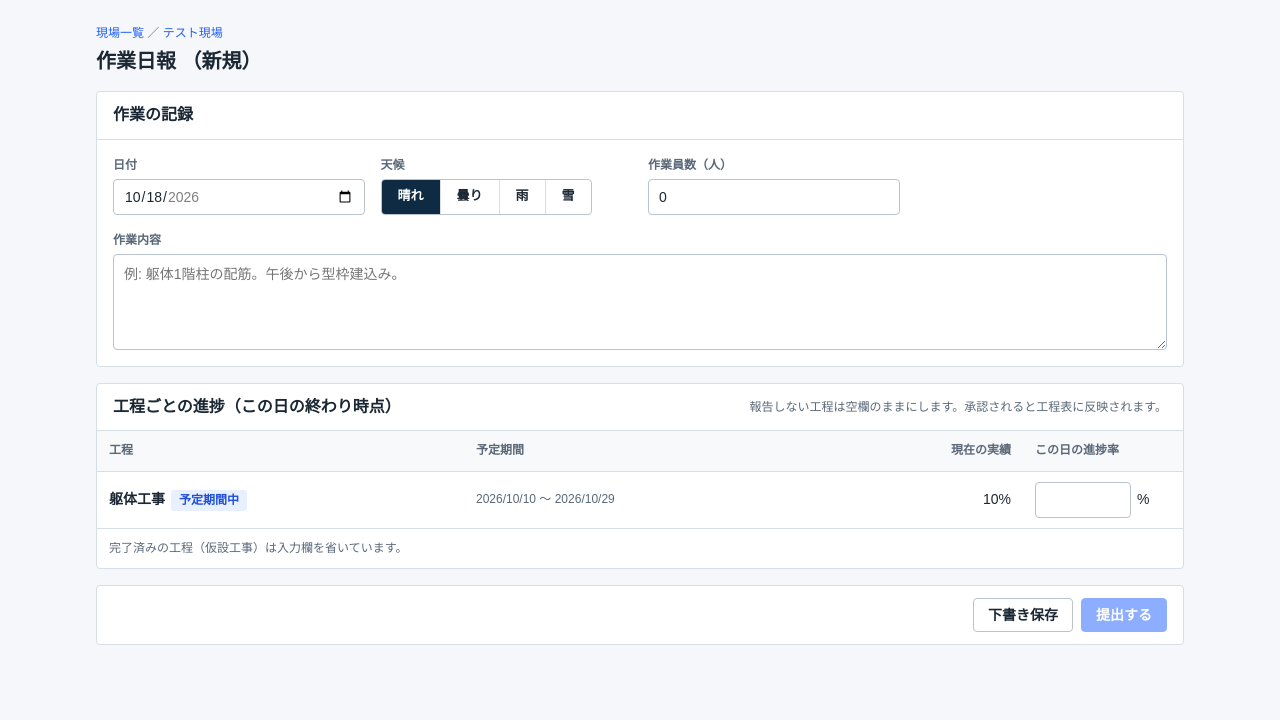
ReportEditView › 作業内容が空のあいだは提出できない
expect the button "提出する" is disabled: met, box [1081,598,1167,632]
Type "型枠" into the text box with id "work-summary".
click(640, 302); type("型枠")  # box [113,254,1167,350]
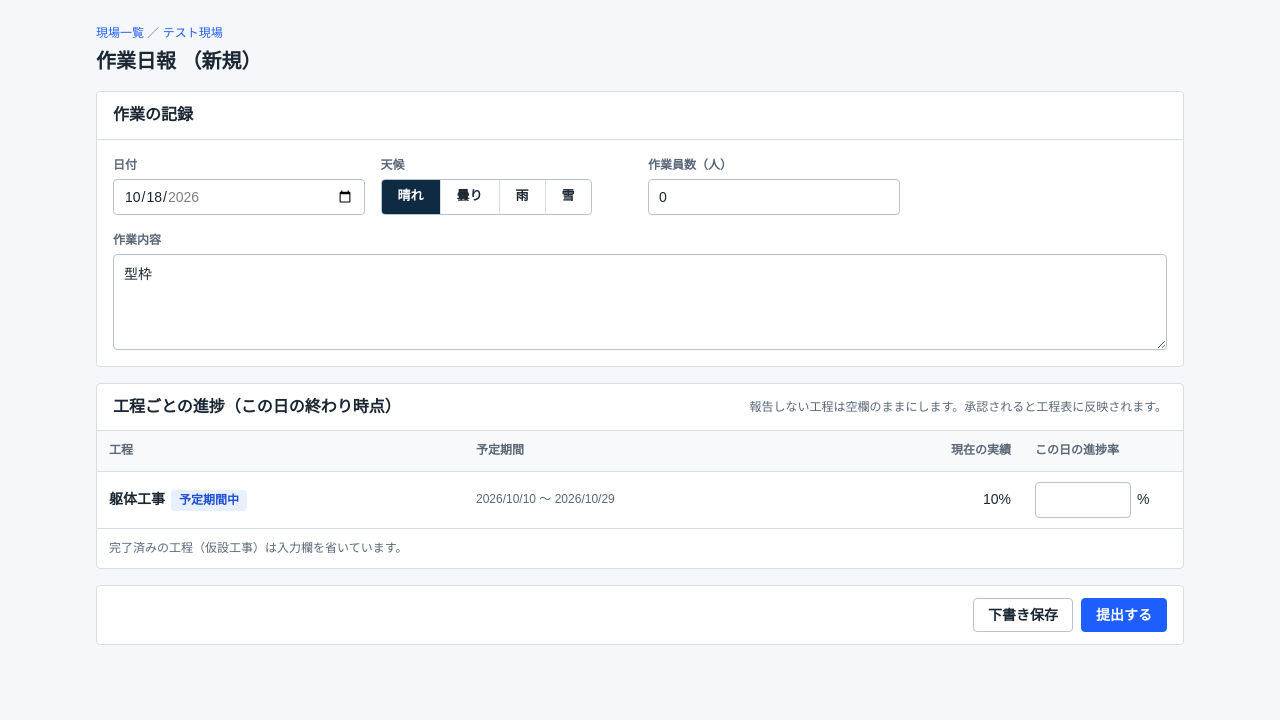
expect the button "提出する" is enabled: met, box [1081,598,1167,632]
